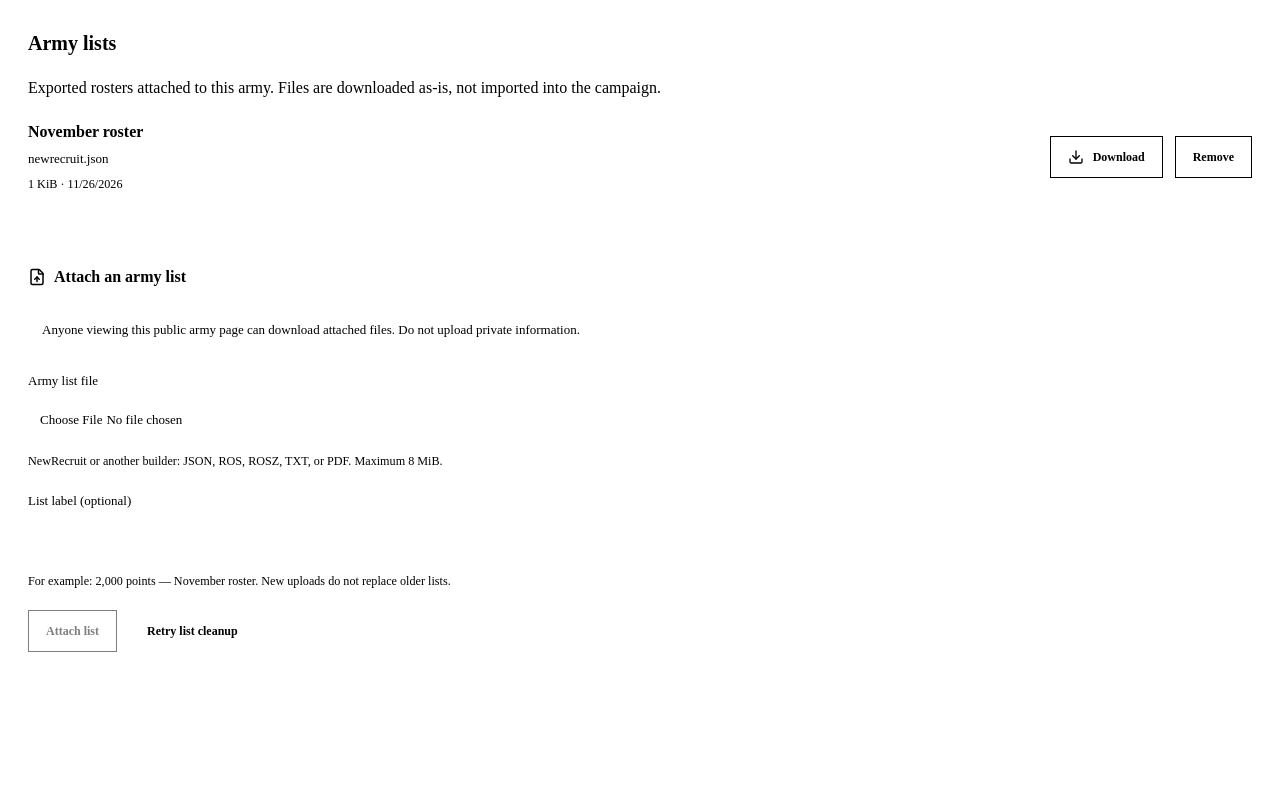
Test case: surfaces removal errors without hiding the attachment entry
The image size is (1280, 800).
Click the button with aria-label "Remove November roster" at (1213,157), box [1175,136,1252,178]
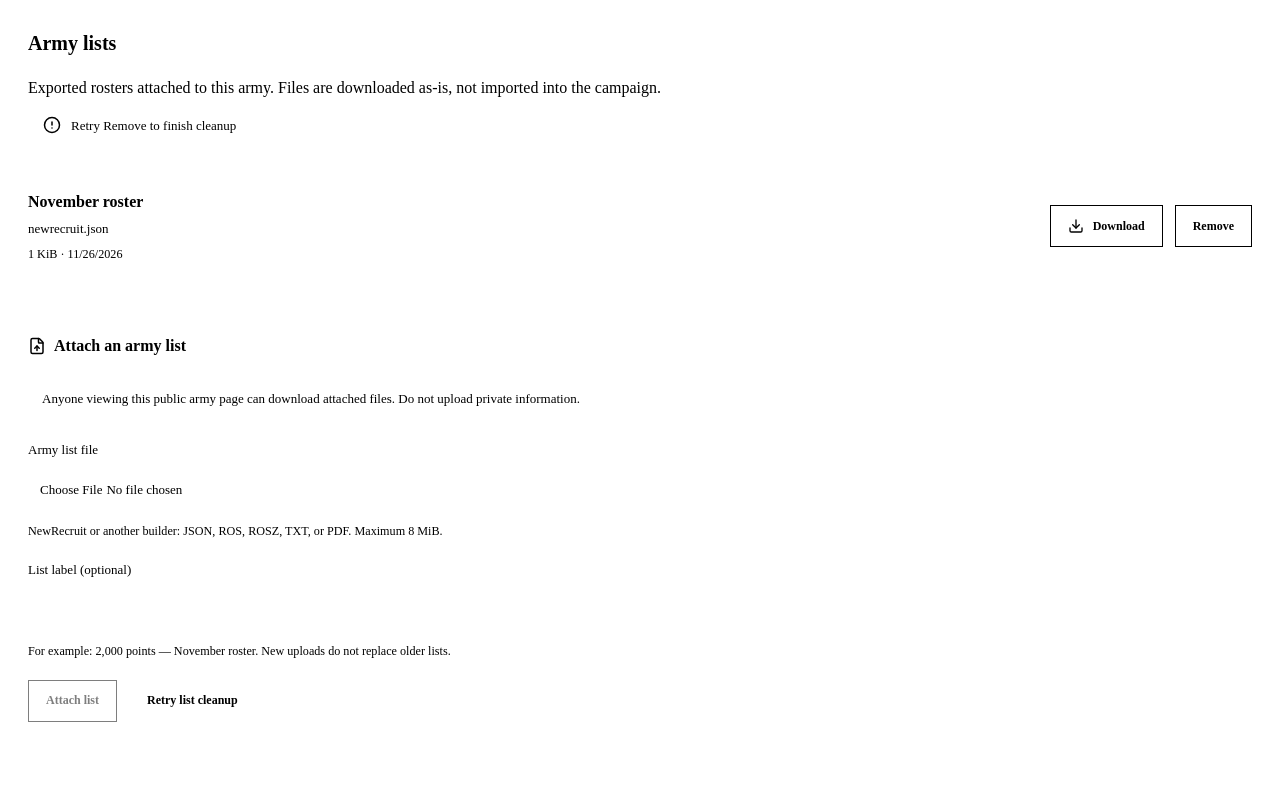
Expected: the button with aria-label "Remove November roster" is enabled, [1175,206,1252,248]
Expected: the message shows "Retry Remove", [71,118,236,133]
